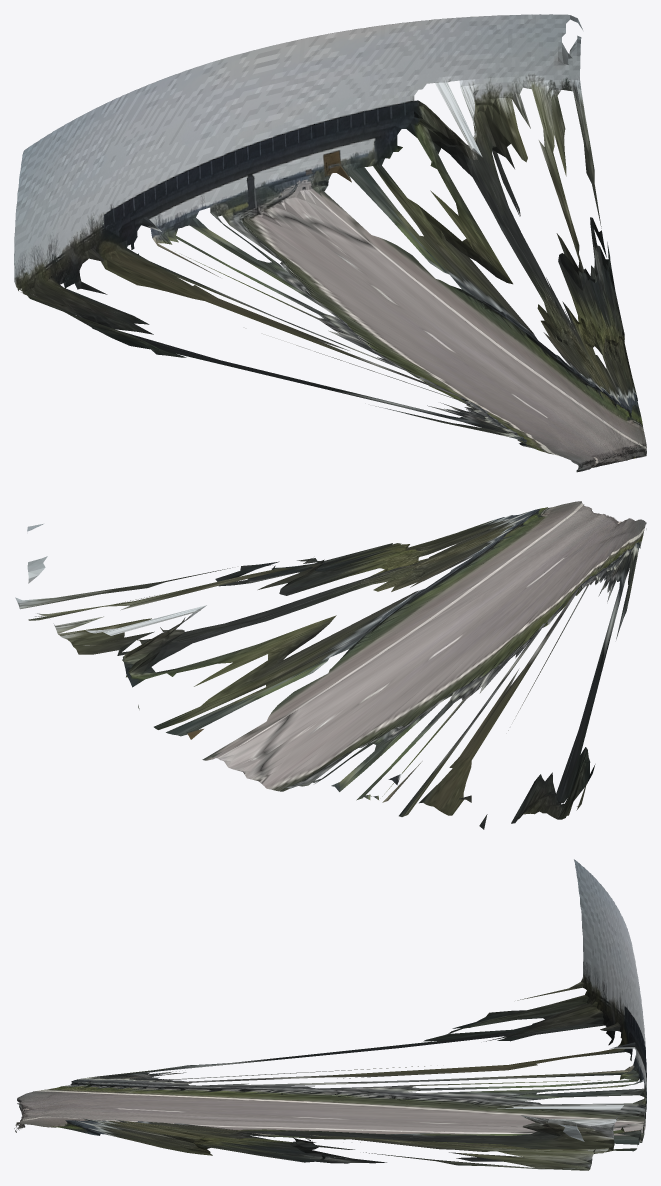
3 renders of one model, top to bottom at view 1: azimuth 30°, elevation 25°; view 2: azimuth 150°, elevation 25°; view 3: azimuth 270°, elevation 25°, orthographic. The views are drawn at different scales.
Parts seen in each view (by area): view 1: defaultobject; view 2: defaultobject; view 3: defaultobject.
Boxes of the visible parts, bbox=[...] form: defaultobject: bbox=[14, 14, 646, 472]; defaultobject: bbox=[15, 501, 646, 829]; defaultobject: bbox=[14, 859, 646, 1170].
Size of the model in its own units: 41.06 by 12.67 by 44.49.
1 material, 1 textured.
